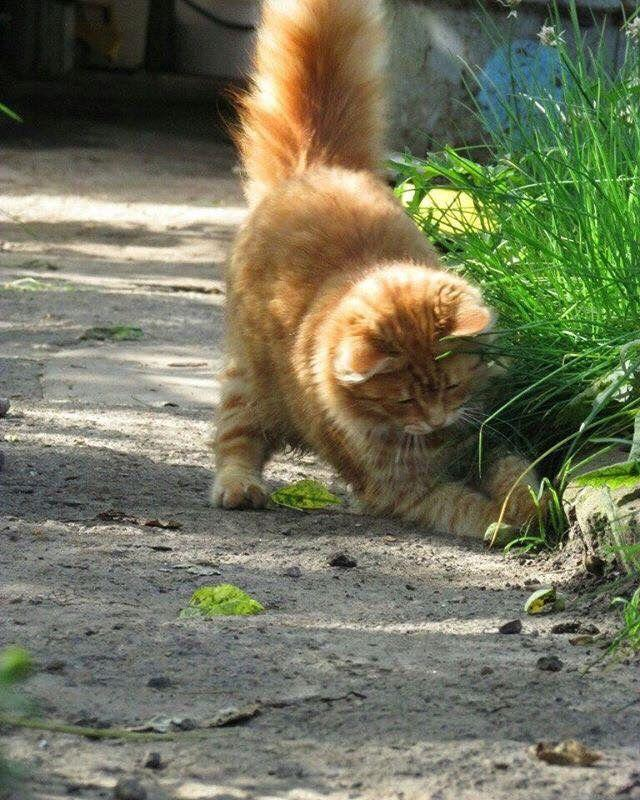kedo: (207, 0, 541, 532)
